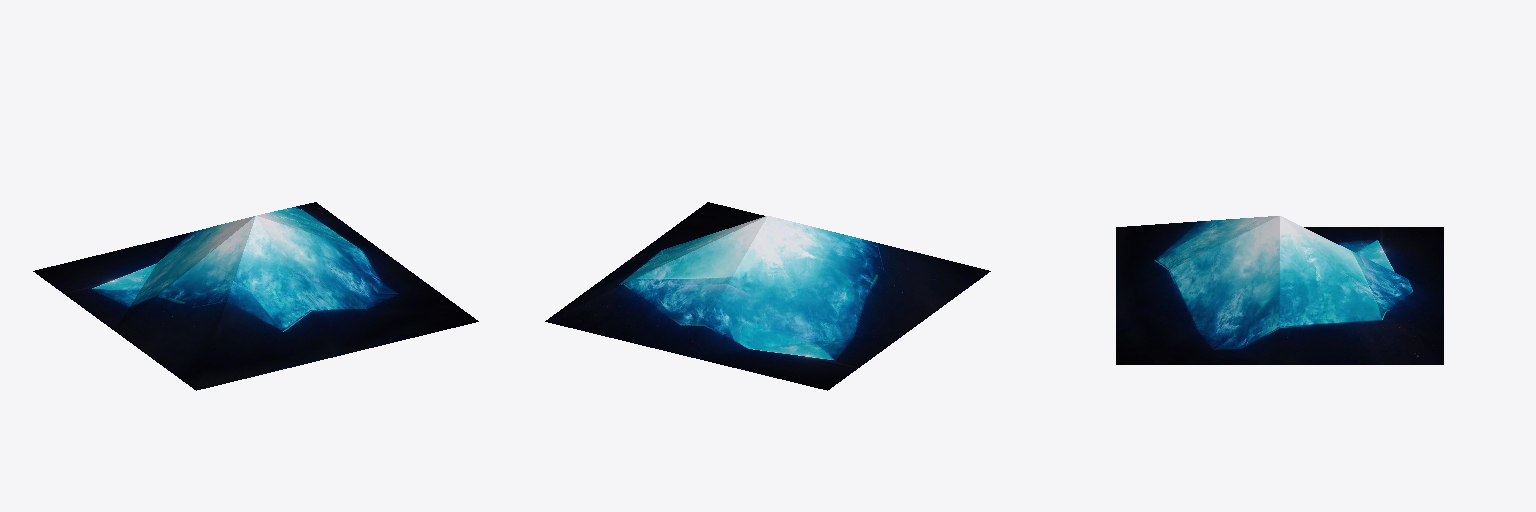
The picture shows the model from 3 angles: view 1: azimuth 30°, elevation 25°; view 2: azimuth 150°, elevation 25°; view 3: azimuth 270°, elevation 25°; orthographic projection.
Visible parts, largest first — view 1: Plane; view 2: Plane; view 3: Plane.
Part boxes in pixels (left/top/right/bottom): Plane: left=33, top=202, right=478, bottom=390; Plane: left=545, top=202, right=990, bottom=390; Plane: left=1116, top=216, right=1443, bottom=364.
Size of the model in its own units: 6.71 by 1.83 by 6.71.
Materials: 1 (1 with a texture image).